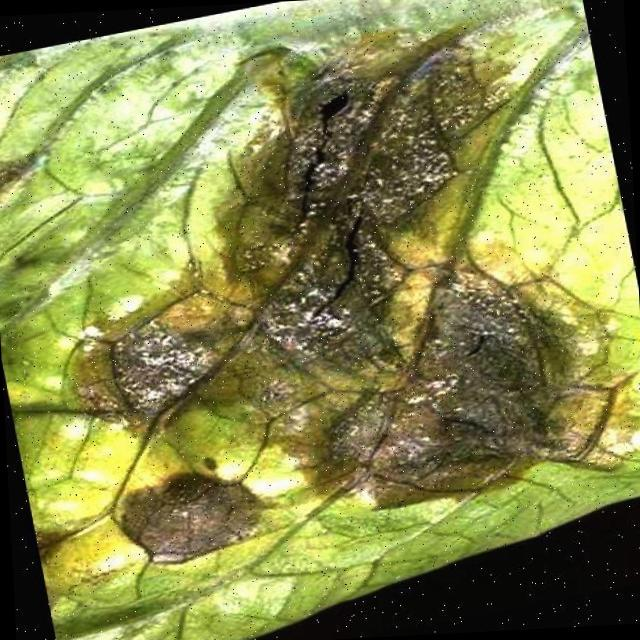Downy_mildew_on_lettuce: (17, 0, 632, 585)
